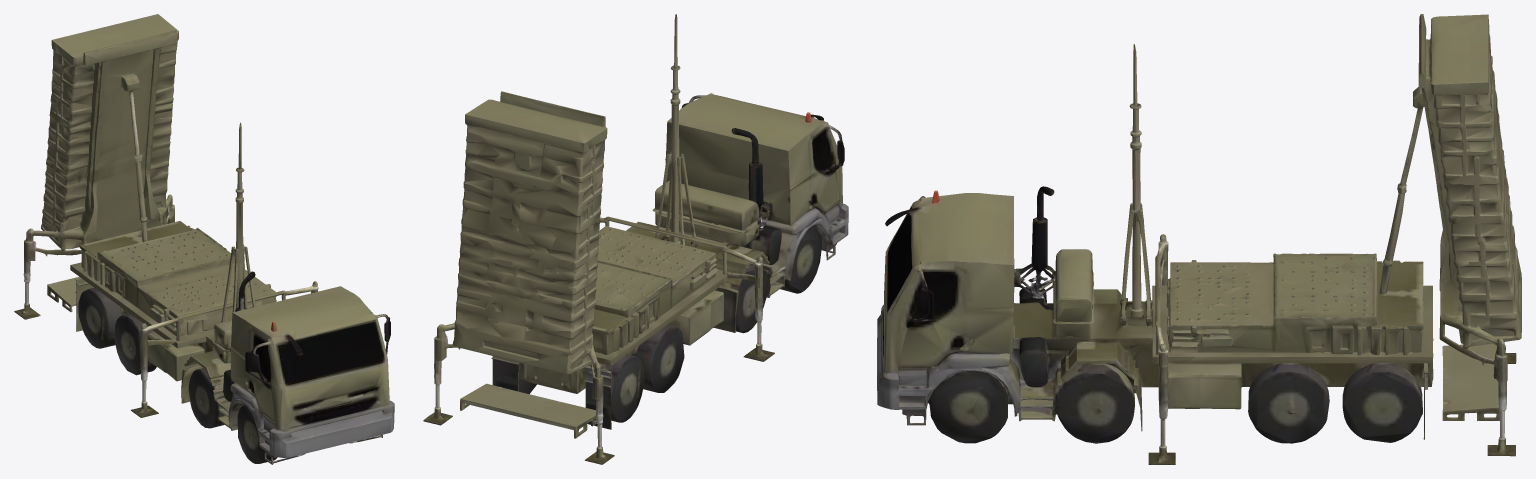
Rendered from sampt.glb.
The picture shows the model from 3 angles, left to right: view 1: azimuth 30°, elevation 25°; view 2: azimuth 150°, elevation 25°; view 3: azimuth 270°, elevation 25°; orthographic projection. The views are drawn at different scales.
Parts seen in each view (by area): view 1: Object_2; view 2: Object_2; view 3: Object_2.
Boxes of the visible parts, bbox=[...] form: Object_2: bbox=[14, 14, 394, 464]; Object_2: bbox=[423, 14, 848, 464]; Object_2: bbox=[877, 14, 1521, 464].
Size of the model in its own units: 0.8358 by 1.2 by 1.9.
Materials: 1 (1 with a texture image).
